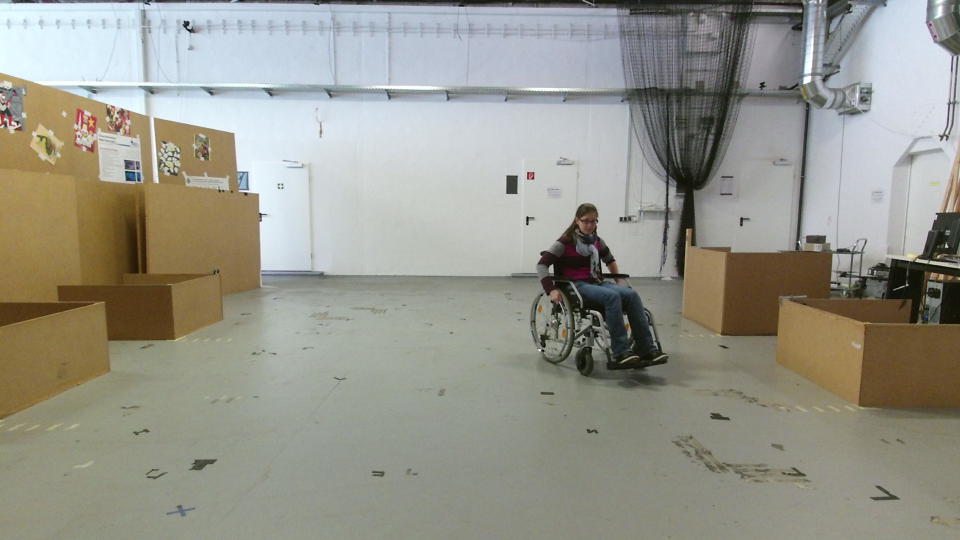wheelchair: (523, 197, 673, 376)
